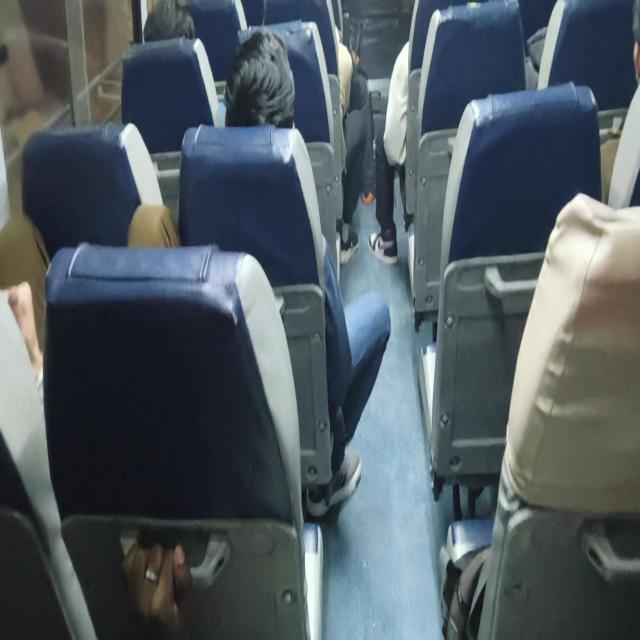person: (127, 26, 391, 515), (439, 1, 639, 637), (0, 278, 194, 638), (367, 0, 471, 265), (367, 40, 412, 265), (335, 29, 377, 266), (223, 27, 296, 128), (120, 537, 193, 632), (7, 279, 45, 415), (142, 0, 196, 42)
